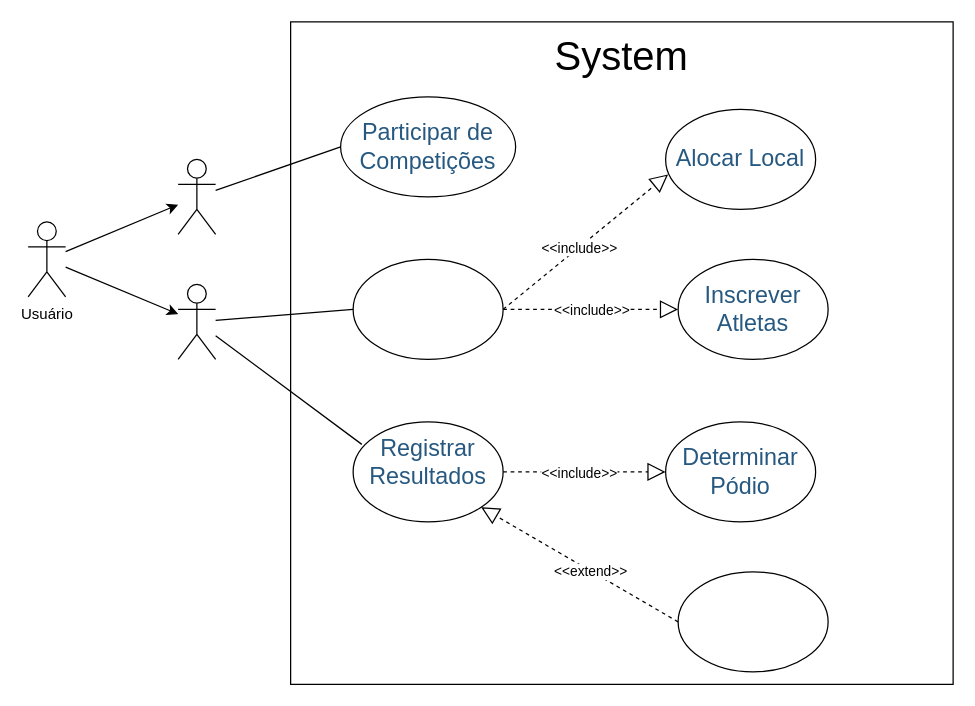
This 975x706 diagram has some shape labels left out. The shapes that lost their labels are listed below. From the top down, each one's centre as x and y in pixels, then its label:
At [196,196]: "Atleta".
At [196,321]: "Organizador".
At [427,308]: "Cadastrar Competição".
At [752,621]: "Gerar Relatório de Medalhas".
